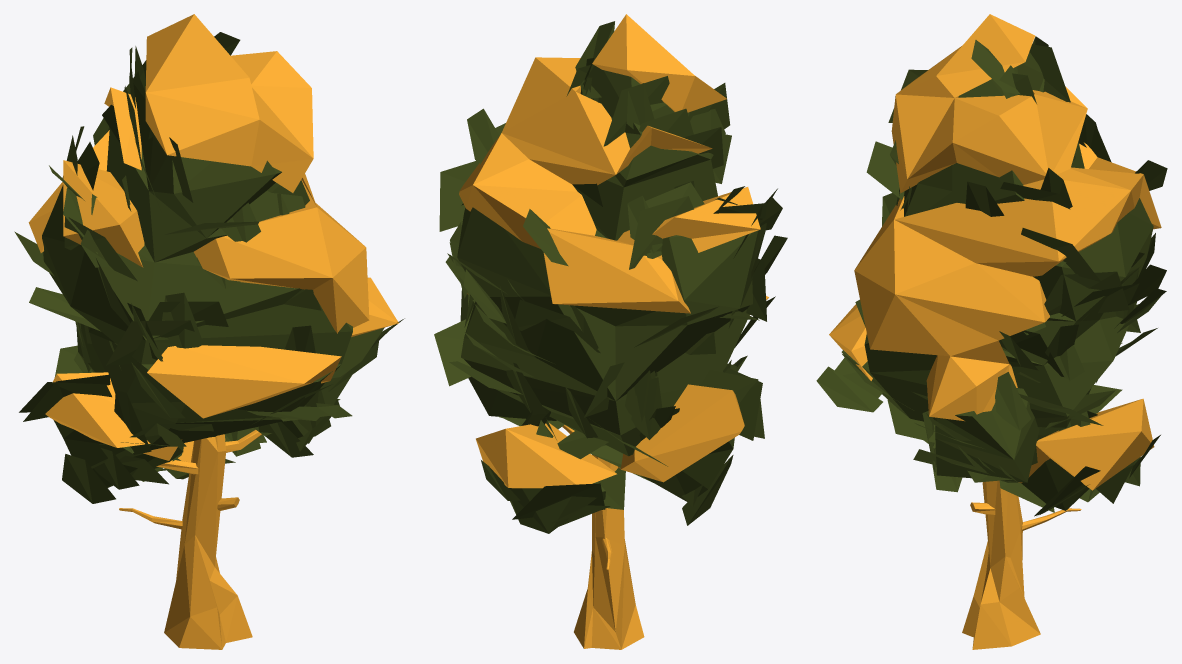
The model's file is SM_Tree_Juniper_Sapling_B_Snow.fbx.
3 views of the same model, side by side, from view 1: azimuth 30°, elevation 25°; view 2: azimuth 150°, elevation 25°; view 3: azimuth 270°, elevation 25° (orthographic). The views are drawn at different scales.
Parts seen in each view (by area): view 1: tree-juniper-sapling-b-snow; view 2: tree-juniper-sapling-b-snow; view 3: tree-juniper-sapling-b-snow.
Part boxes in pixels (bbox=[...]): tree-juniper-sapling-b-snow: bbox=[14, 14, 404, 649]; tree-juniper-sapling-b-snow: bbox=[434, 14, 787, 649]; tree-juniper-sapling-b-snow: bbox=[816, 14, 1167, 649].
Size of the model in its own units: 1.08 by 1.9 by 0.9897.
